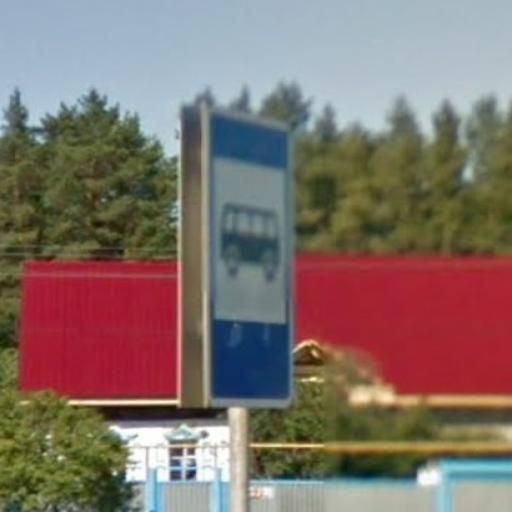traffic_sign: (200, 103, 298, 411)
